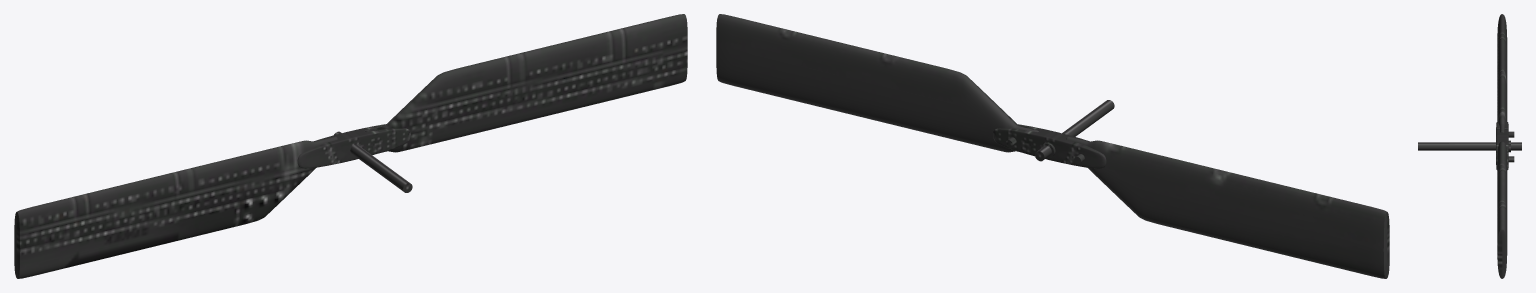
File: Rotor.fbx
3 renders of one model, left to right at view 1: azimuth 30°, elevation 25°; view 2: azimuth 150°, elevation 25°; view 3: azimuth 270°, elevation 25°, orthographic. The views are drawn at different scales.
Visible parts, largest first — view 1: ID34inst, ID33inst, ID35inst; view 2: ID34inst, ID33inst, ID35inst; view 3: ID33inst, ID35inst, ID34inst.
Part boxes in pixels (x1=…): ID34inst: x1=14, y1=136, x2=337, y2=278; ID33inst: x1=364, y1=14, x2=687, y2=152; ID35inst: x1=297, y1=124, x2=412, y2=192; ID34inst: x1=1066, y1=136, x2=1389, y2=278; ID33inst: x1=716, y1=14, x2=1039, y2=152; ID35inst: x1=993, y1=100, x2=1114, y2=168; ID33inst: x1=1497, y1=141, x2=1507, y2=278; ID35inst: x1=1418, y1=122, x2=1521, y2=169; ID34inst: x1=1497, y1=14, x2=1507, y2=132.
Size of the model in its own units: 2.8 by 0.4134 by 0.5085.
1 material, 1 textured.
